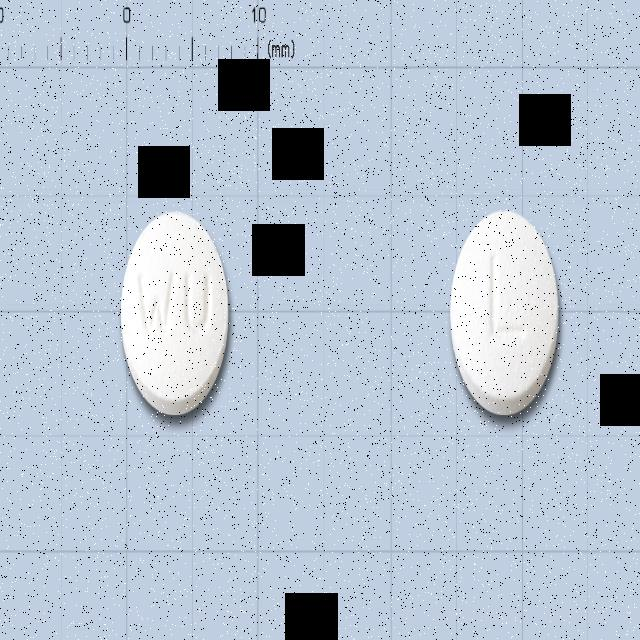Levofloxacin Tab- Withus: (450, 209, 560, 418), (120, 210, 230, 418)
